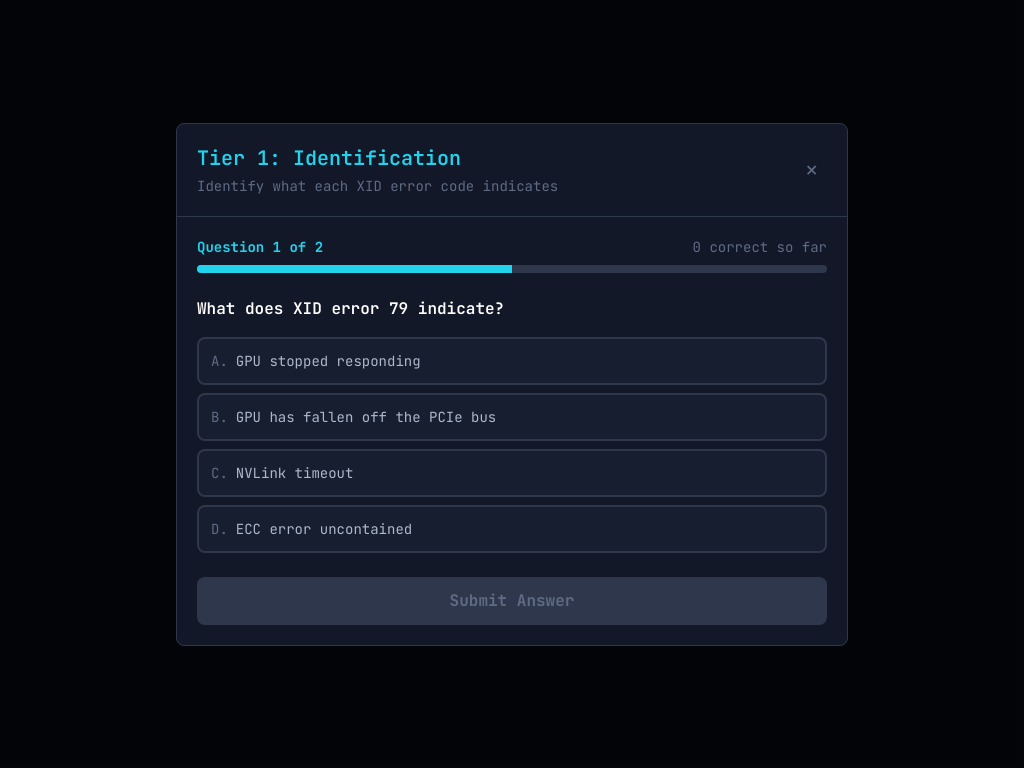
Scenario: XIDDrillQuiz › shows feedback after selecting an answer
Click the button "B.GPU has fallen off the PCIe bus" at (366, 416), box x1=197 y1=392 x2=827 y2=440
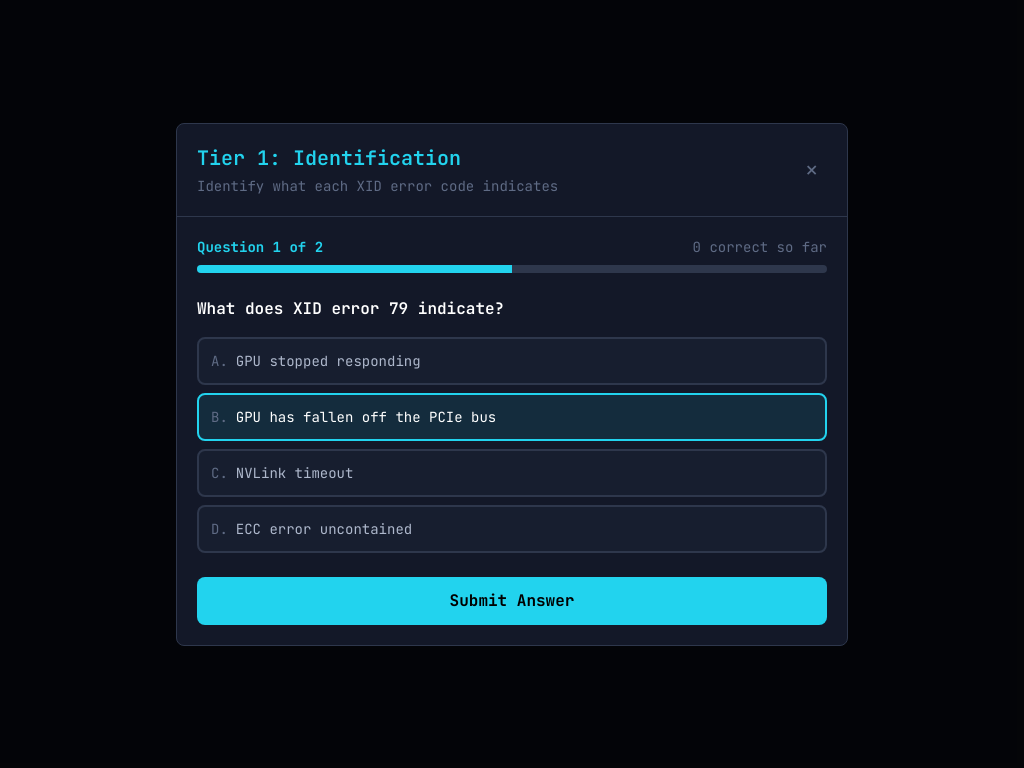
Click submit
Click the button "Submit Answer" at (512, 600), box x1=197 y1=576 x2=827 y2=624
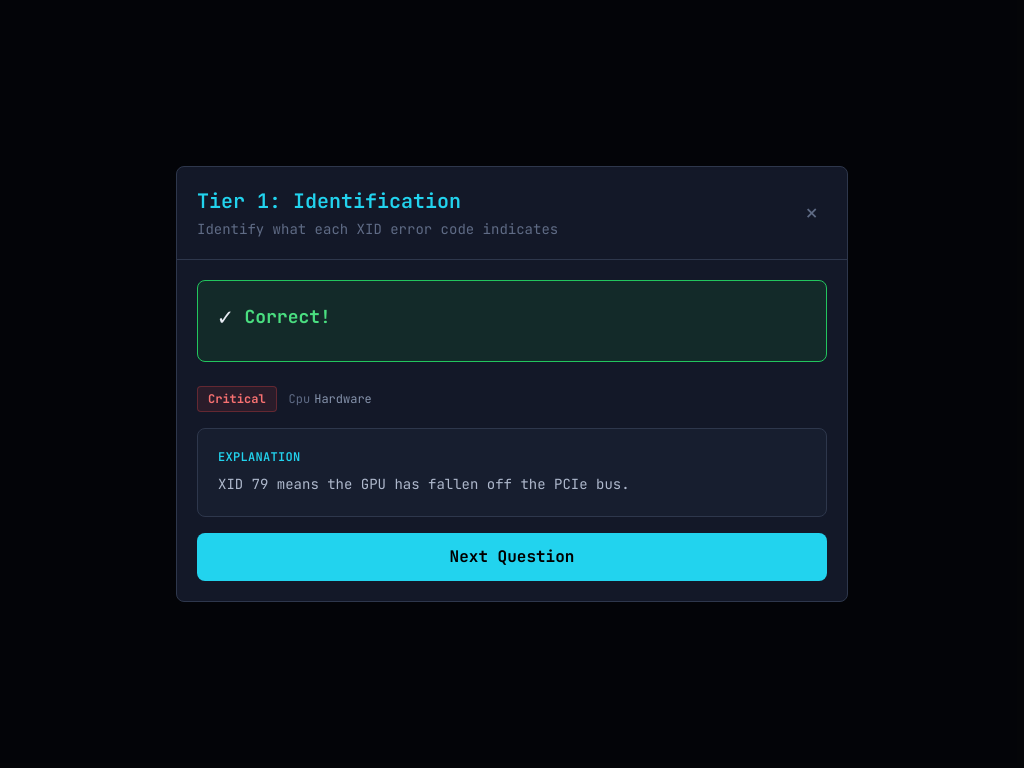
Check: the text "Correct!" is shown, box x1=244 y1=303 x2=331 y2=331
